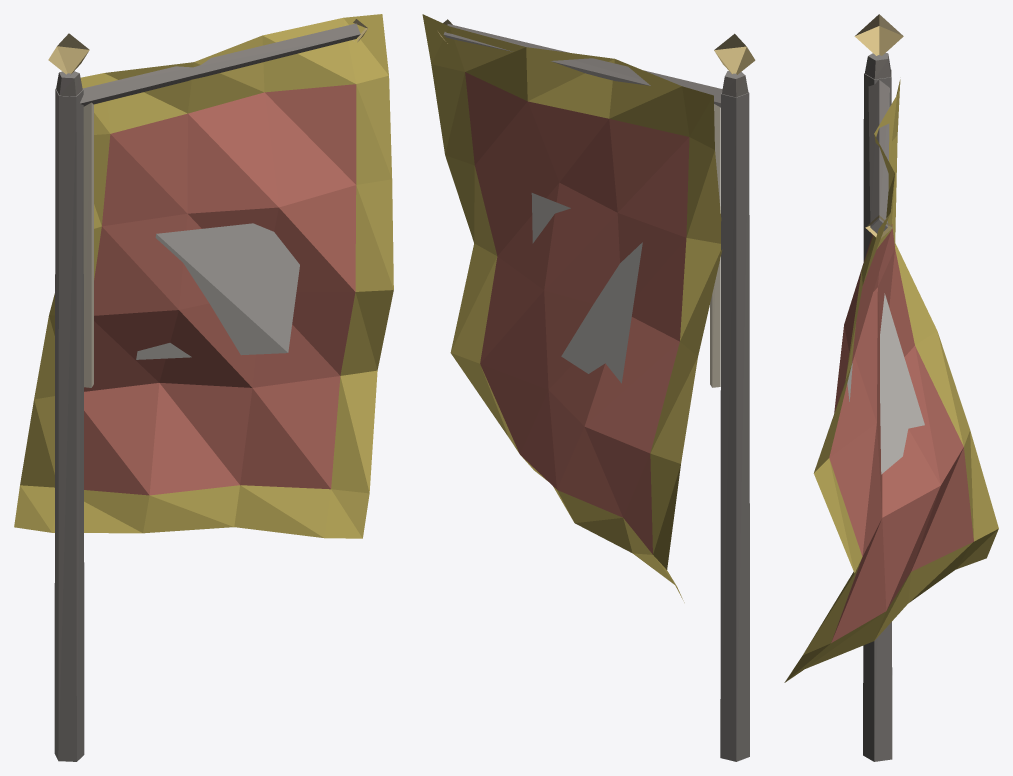
Rendered from flag.rect.chizhi__pole.stick.fangun__armHang.glb.
3 views of the same model, side by side, from view 1: azimuth 30°, elevation 25°; view 2: azimuth 150°, elevation 25°; view 3: azimuth 270°, elevation 25° (orthographic). The views are drawn at different scales.
Parts seen in each view (by area): view 1: flag.rect.chizhi; view 2: flag.rect.chizhi; view 3: flag.rect.chizhi.
Part boxes in pixels (x1=…): flag.rect.chizhi: x1=14, y1=14, x2=393, y2=761; flag.rect.chizhi: x1=422, y1=14, x2=755, y2=761; flag.rect.chizhi: x1=784, y1=14, x2=998, y2=761.
Bounding box in the file's own units: 1.1 × 2.28 × 0.5998.
